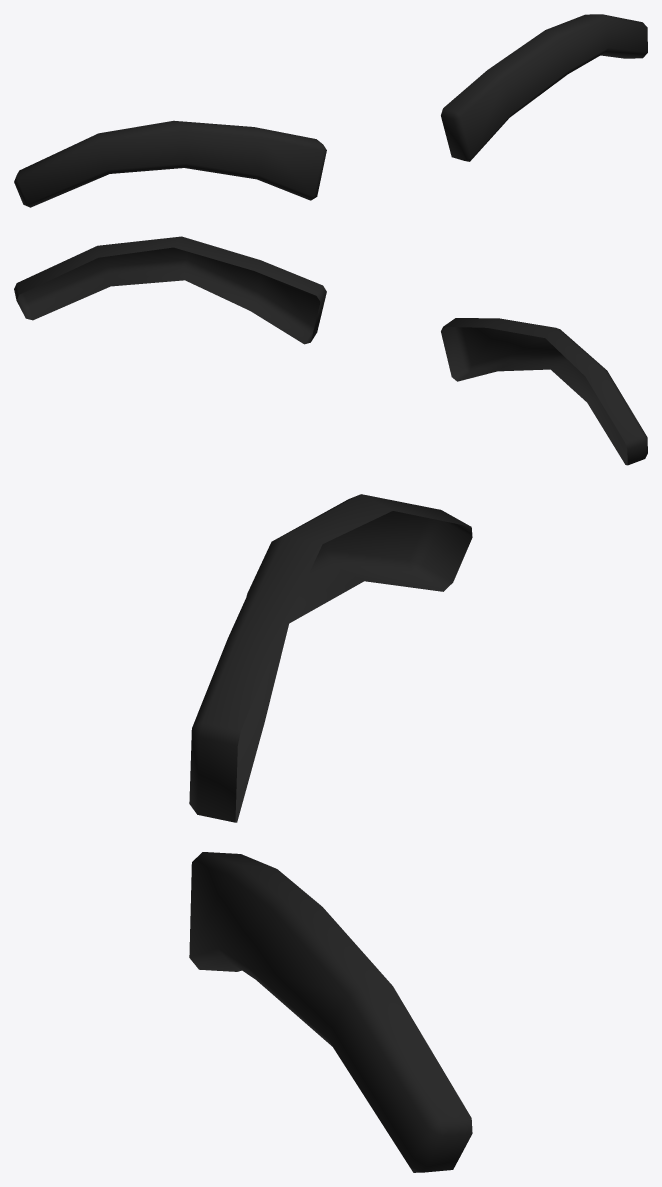
File: Eyebrow_003.glb
3 views of the same model, one above another, from view 1: azimuth 30°, elevation 25°; view 2: azimuth 150°, elevation 25°; view 3: azimuth 270°, elevation 25° (orthographic). The views are drawn at different scales.
Parts seen in each view (by area): view 1: Eyebrow_003; view 2: Eyebrow_003; view 3: Eyebrow_003.
Part boxes in pixels (bbox=[...]): Eyebrow_003: bbox=[14, 14, 647, 207]; Eyebrow_003: bbox=[14, 236, 647, 465]; Eyebrow_003: bbox=[189, 494, 472, 1172].
Size of the model in its own units: 0.2632 by 0.0357 by 0.0511.
Materials: 1 (1 with a texture image).
